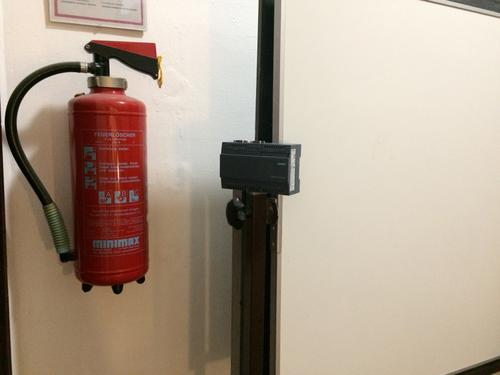iot2000: (219, 139, 303, 198)
